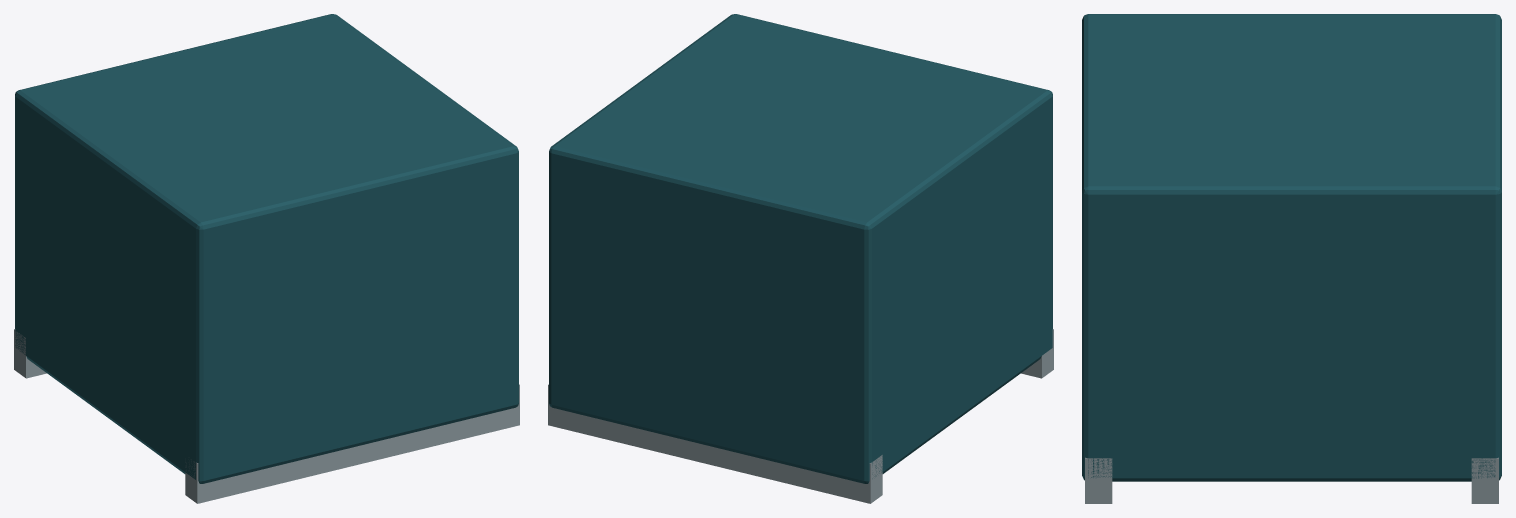
The model's file is SM_StationRouteRoof.fbx.
3 renders of one model, left to right at view 1: azimuth 30°, elevation 25°; view 2: azimuth 150°, elevation 25°; view 3: azimuth 270°, elevation 25°, orthographic. The views are drawn at different scales.
Parts seen in each view (by area): view 1: SM_StationRouteRoof_UEExport; view 2: SM_StationRouteRoof_UEExport; view 3: SM_StationRouteRoof_UEExport.
Part boxes in pixels (x1,y1,x2,y2): SM_StationRouteRoof_UEExport: [14, 14, 519, 503]; SM_StationRouteRoof_UEExport: [548, 14, 1053, 503]; SM_StationRouteRoof_UEExport: [1082, 14, 1501, 503].
Bounding box in the file's own units: 200 × 200 × 165.
